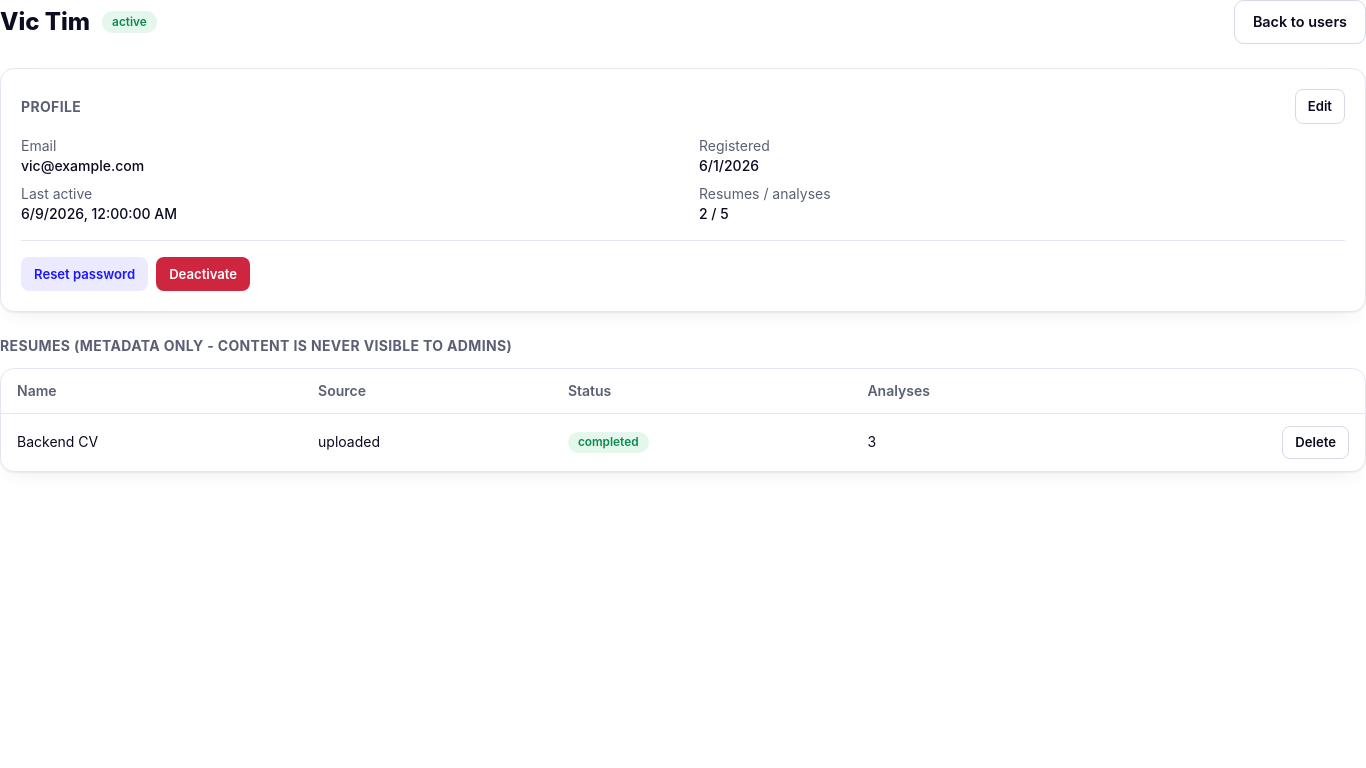
Test: admin user details (issue #79 / 9.2) › temp password is shown exactly once with copy; email mode toasts
Check: the heading "Vic Tim" is shown, box [0,6,90,38]
Click the button "Reset password" at (85, 274), box [21,257,148,291]
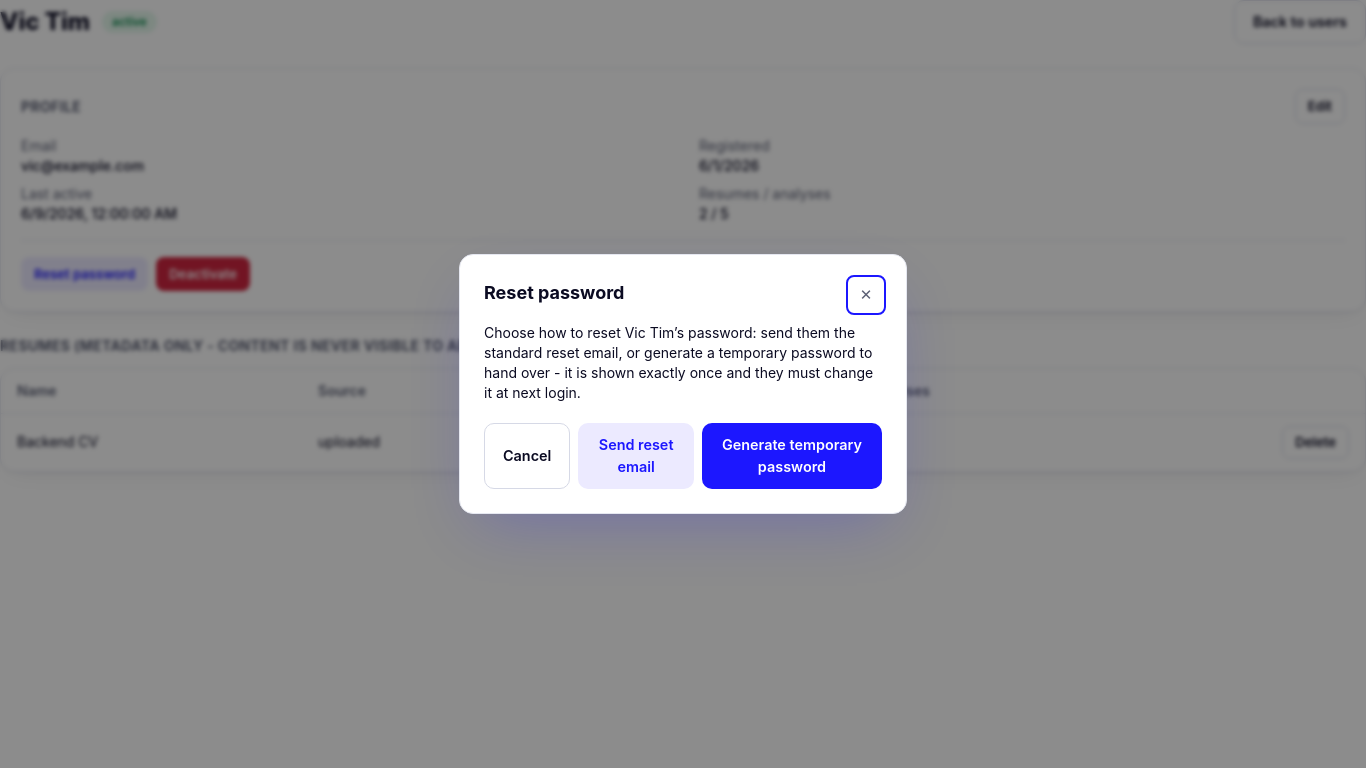
Click the button "Generate temporary password" at (792, 456), box [702,423,882,489]
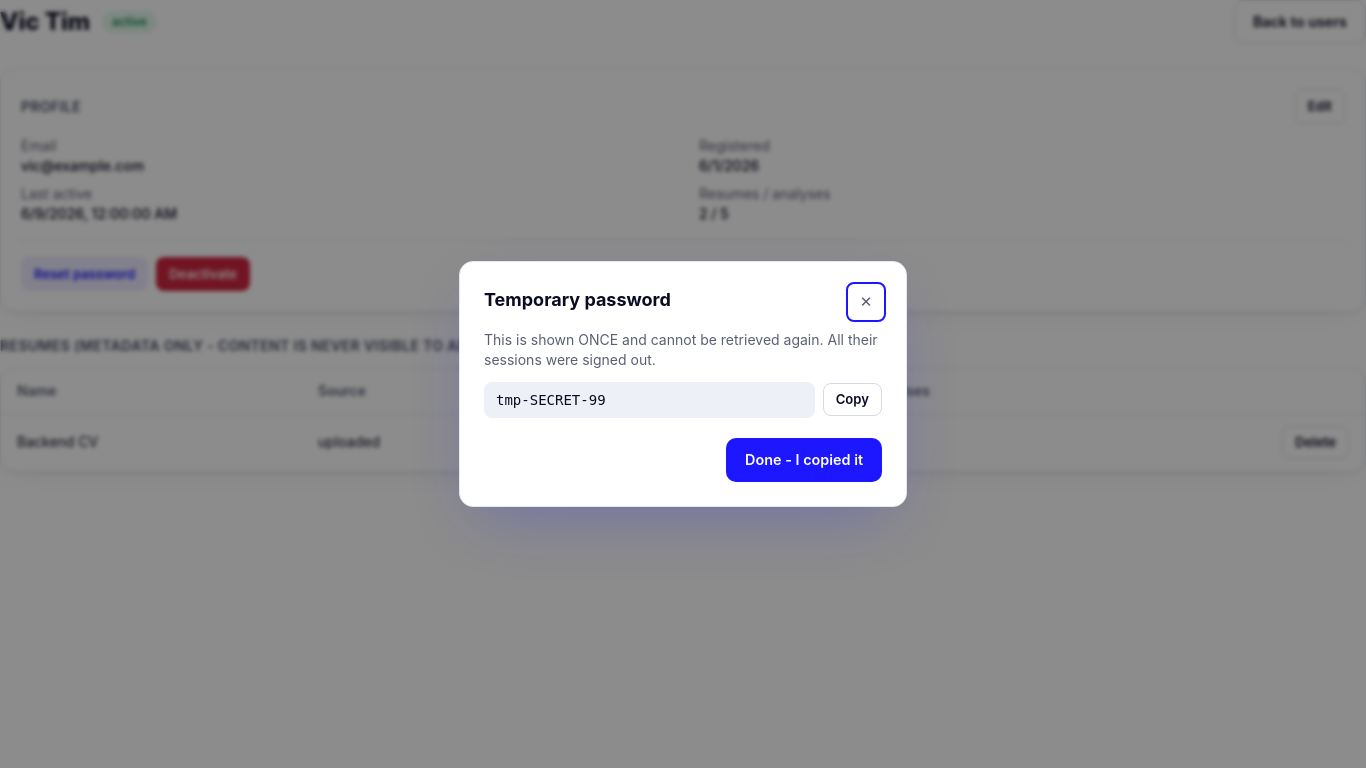
Check: the text "tmp-SECRET-99" is shown, box [484,382,815,418]
Check: the text "shown ONCE" is shown, box [484,331,878,368]
Click the button "Done - I copied it" at (804, 460), box [726,438,882,482]
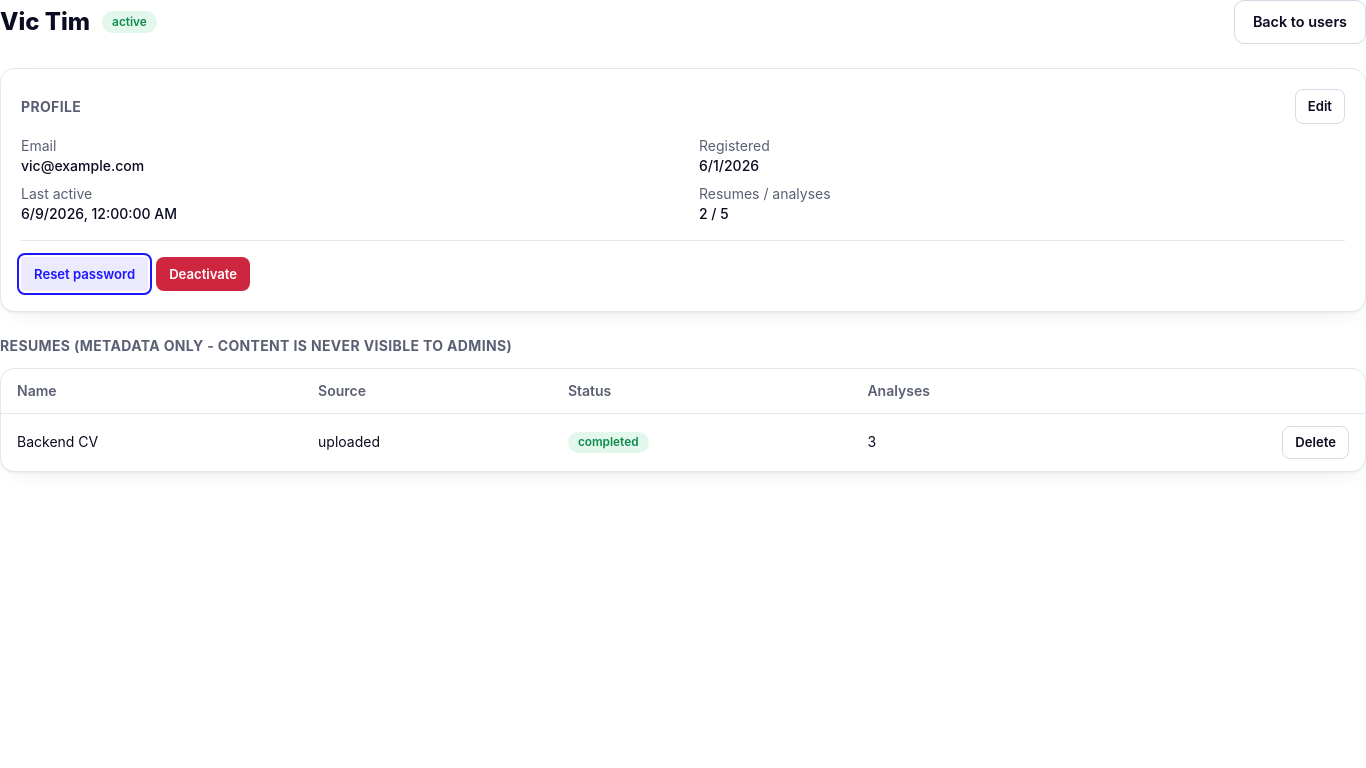
Check: the text "tmp-SECRET-99" is gone
